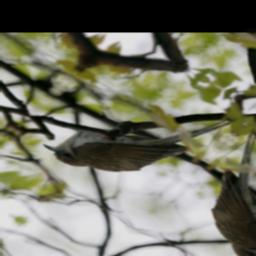Cuckoo: (38, 63, 236, 207)
